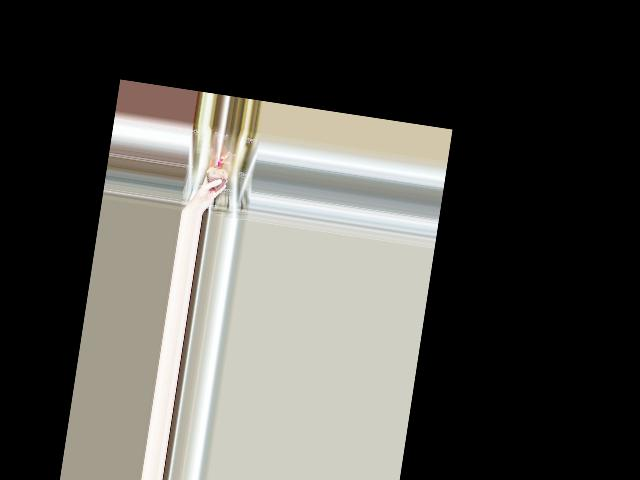beet: (204, 149, 232, 192)
